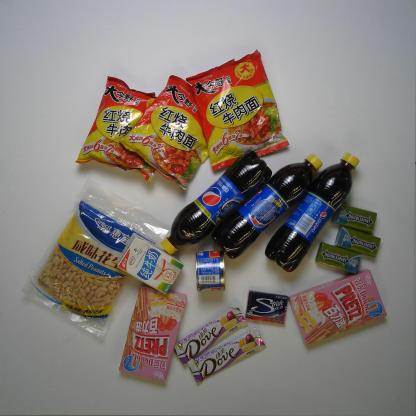Canned Food: (192, 249, 228, 294)
Chocolate: (185, 326, 268, 386), (171, 305, 249, 366)
Dessert: (286, 268, 389, 347), (117, 282, 188, 386)
Dried Fruit: (19, 175, 172, 341)
Drink: (209, 152, 325, 260), (158, 148, 273, 256), (263, 150, 361, 274)
Gum: (244, 288, 291, 328), (334, 224, 384, 258), (313, 241, 362, 274), (330, 202, 378, 235)
Instant Noodles: (184, 47, 292, 173), (118, 73, 212, 192), (72, 74, 161, 184)
Milk: (112, 231, 186, 296)
